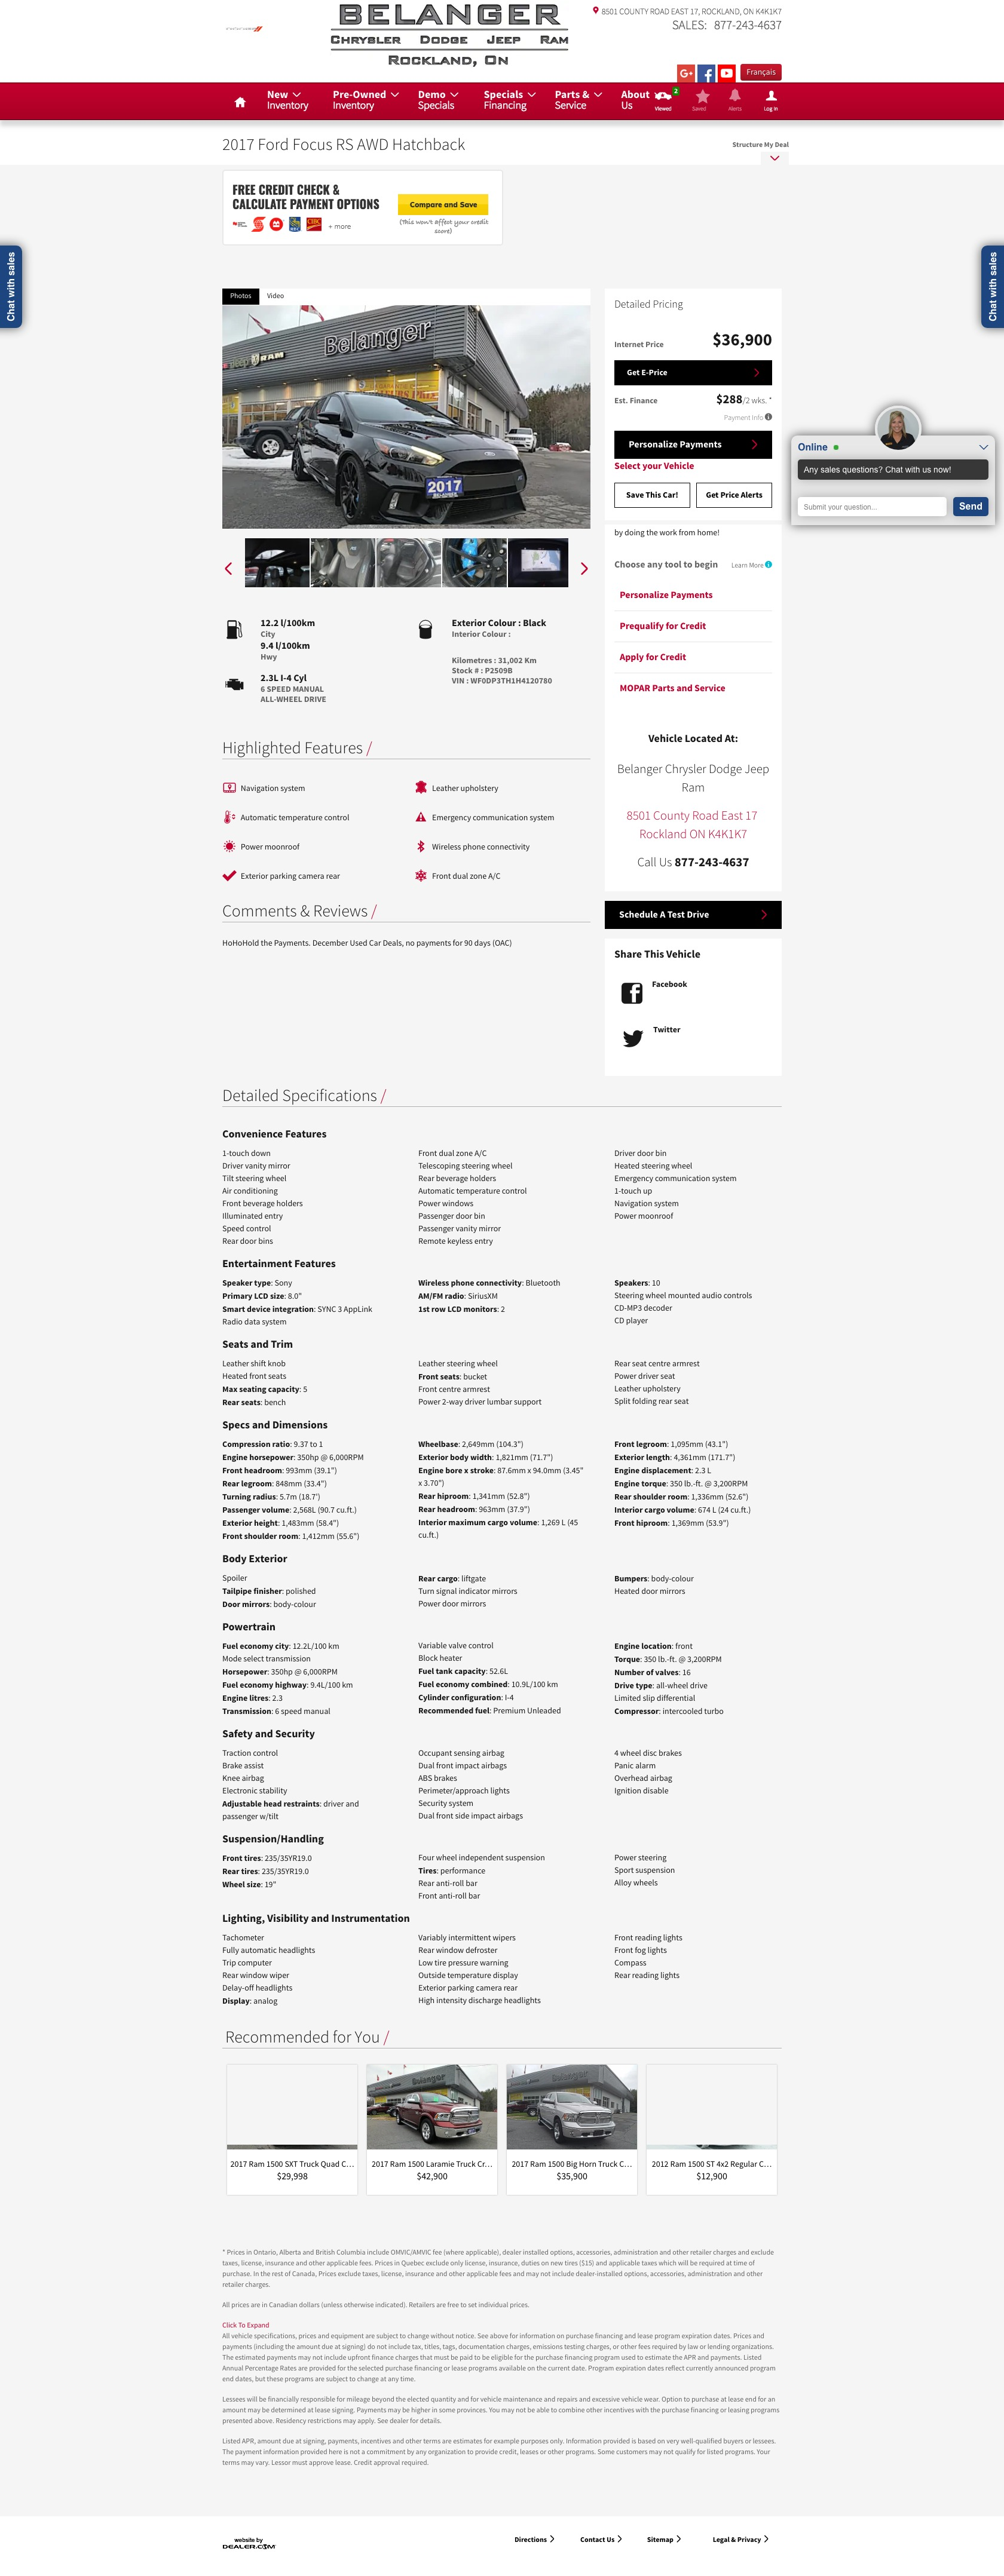car: (580, 562, 590, 577)
